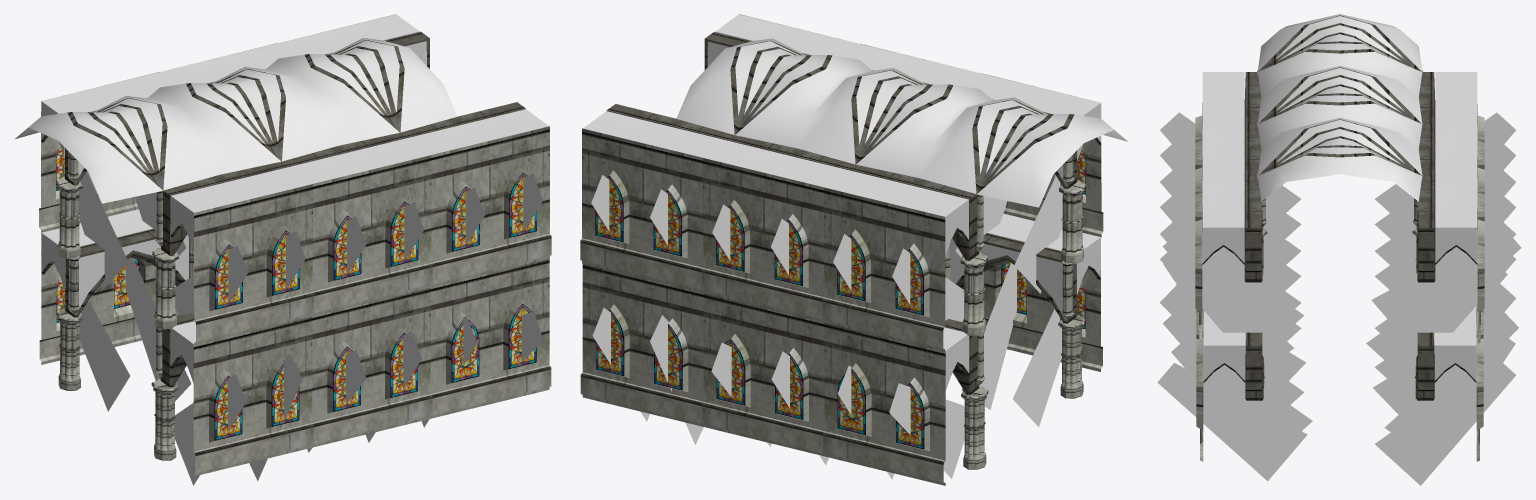
Rendered from Cathedral.fbx.
3 renders of one model, left to right at view 1: azimuth 30°, elevation 25°; view 2: azimuth 150°, elevation 25°; view 3: azimuth 270°, elevation 25°, orthographic. The views are drawn at different scales.
Visible parts, largest first — view 1: Pillars_1.002, godray; view 2: Pillars_1.002, godray; view 3: Pillars_1.002, godray.
Part boxes in pixels (x1=…): Pillars_1.002: x1=15, y1=14, x2=551, y2=476; godray: x1=79, y1=171, x2=542, y2=485; Pillars_1.002: x1=580, y1=14, x2=1127, y2=485; godray: x1=591, y1=175, x2=1062, y2=479; Pillars_1.002: x1=1195, y1=14, x2=1484, y2=461; godray: x1=1157, y1=112, x2=1521, y2=485.
Bounding box in the file's own units: 1868 × 1501 × 1581.
